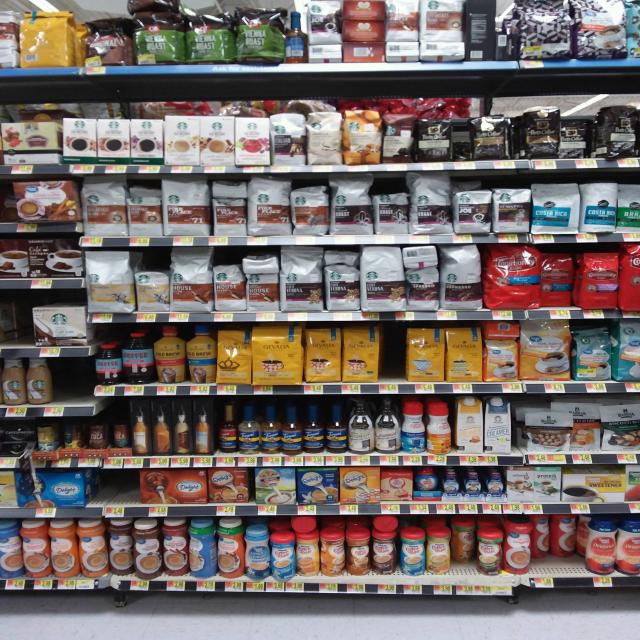void: (90, 471, 136, 508), (58, 358, 90, 407)
